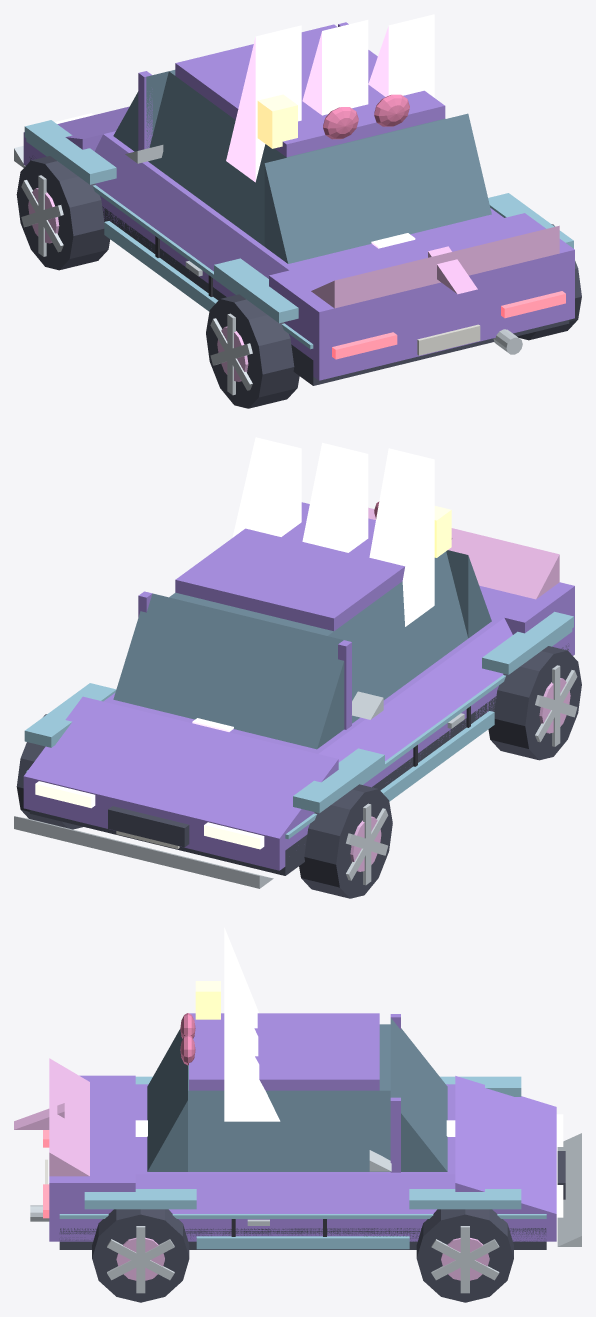
Rendered from crystal_carriage.glb.
The picture shows the model from 3 angles, top to bottom: view 1: azimuth 30°, elevation 25°; view 2: azimuth 150°, elevation 25°; view 3: azimuth 270°, elevation 25°; orthographic projection. The views are drawn at different scales.
Visible parts, largest first — view 1: RearWindow.220, Tail.120, CabinSideL.117, Roof.320, ShoulderL.117, Body.320, Ducktail.081, Wheel_FL.260, Wheel_RL.260, Crystal0.007, Crystal1.007, Crystal2.007 (+24 smaller); view 2: Windshield.220, Nose.117, Roof.320, CabinSideL.117, ShoulderL.117, Crystal0.007, Body.320, Wheel_FL.260, Wheel_RL.260, Crystal1.007, Crystal2.007, Ducktail.081 (+20 smaller); view 3: CabinSideR.117, Roof.320, Nose.117, ShoulderR.117, Tail.120, Body.320, Windshield.220, Wheel_RR.260, Wheel_FR.260, RearWindow.220, Ducktail.081, Crystal2.007 (+22 smaller).
Boxes of the visible parts, left/top/right/bottom form: RearWindow.220: left=264, top=113, right=491, bottom=263; Tail.120: left=269, top=213, right=574, bottom=348; CabinSideL.117: left=148, top=71, right=286, bottom=246; Roof.320: left=175, top=24, right=445, bottom=157; ShoulderL.117: left=95, top=134, right=288, bottom=278; Body.320: left=23, top=132, right=574, bottom=380; Ducktail.081: left=311, top=225, right=559, bottom=308; Wheel_FL.260: left=16, top=156, right=110, bottom=270; Wheel_RL.260: left=206, top=294, right=299, bottom=408; Crystal0.007: left=226, top=25, right=301, bottom=182; Crystal1.007: left=302, top=20, right=368, bottom=115; Crystal2.007: left=368, top=14, right=434, bottom=97; Windshield.220: left=113, top=593, right=344, bottom=749; Nose.117: left=24, top=696, right=338, bottom=838; Roof.320: left=175, top=502, right=404, bottom=631; CabinSideL.117: left=328, top=551, right=468, bottom=723; ShoulderL.117: left=318, top=618, right=512, bottom=762; Crystal0.007: left=369, top=448, right=434, bottom=626; Body.320: left=23, top=622, right=574, bottom=870; Wheel_FL.260: left=299, top=784, right=392, bottom=898; Wheel_RL.260: left=488, top=646, right=581, bottom=760; Crystal1.007: left=302, top=442, right=368, bottom=552; Crystal2.007: left=232, top=437, right=301, bottom=537; Ducktail.081: left=368, top=507, right=559, bottom=599; CabinSideR.117: left=188, top=1090, right=390, bottom=1171; Roof.320: left=189, top=1013, right=379, bottom=1090; Nose.117: left=455, top=1076, right=556, bottom=1213; ShoulderR.117: left=135, top=1174, right=455, bottom=1213; Tail.120: left=49, top=1075, right=135, bottom=1213; Body.320: left=49, top=1214, right=556, bottom=1241; Windshield.220: left=390, top=1018, right=447, bottom=1171; Wheel_RR.260: left=92, top=1209, right=189, bottom=1302; Wheel_FR.260: left=416, top=1209, right=513, bottom=1302; RearWindow.220: left=147, top=1029, right=187, bottom=1171; Ducktail.081: left=49, top=1058, right=89, bottom=1176; Crystal2.007: left=224, top=1001, right=280, bottom=1121.
Size of the model in its own units: 3.2 by 2.95 by 5.6.
